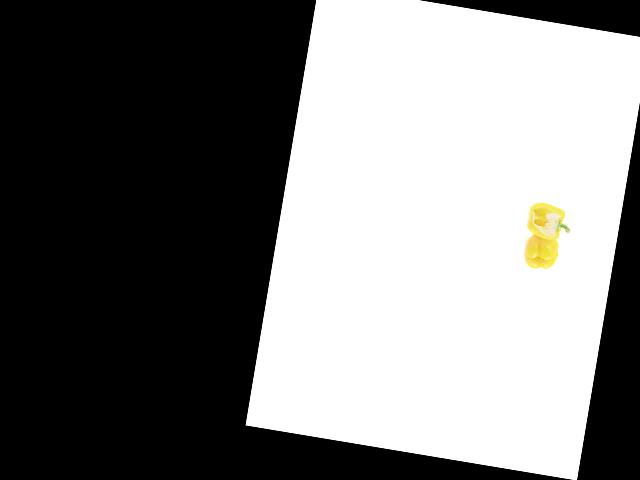bell_pepper: (515, 197, 574, 249)
